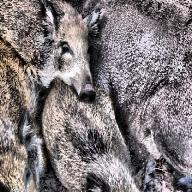boar: (1, 0, 96, 187)
